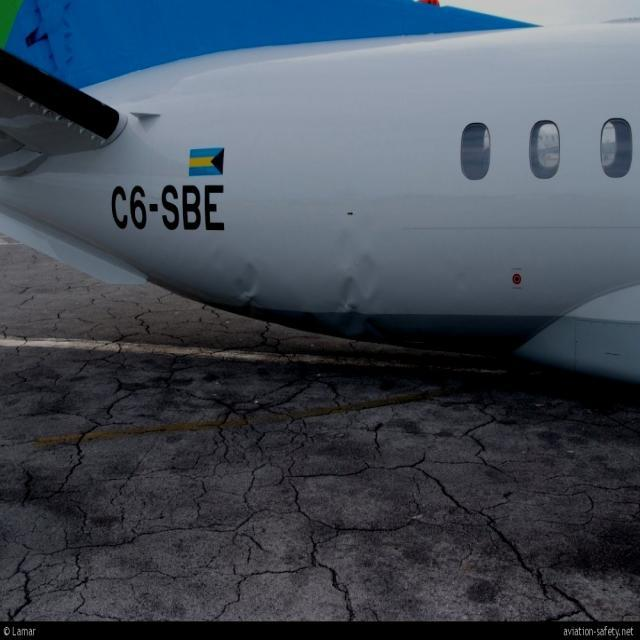dent: (324, 227, 386, 336), (207, 244, 276, 322)
